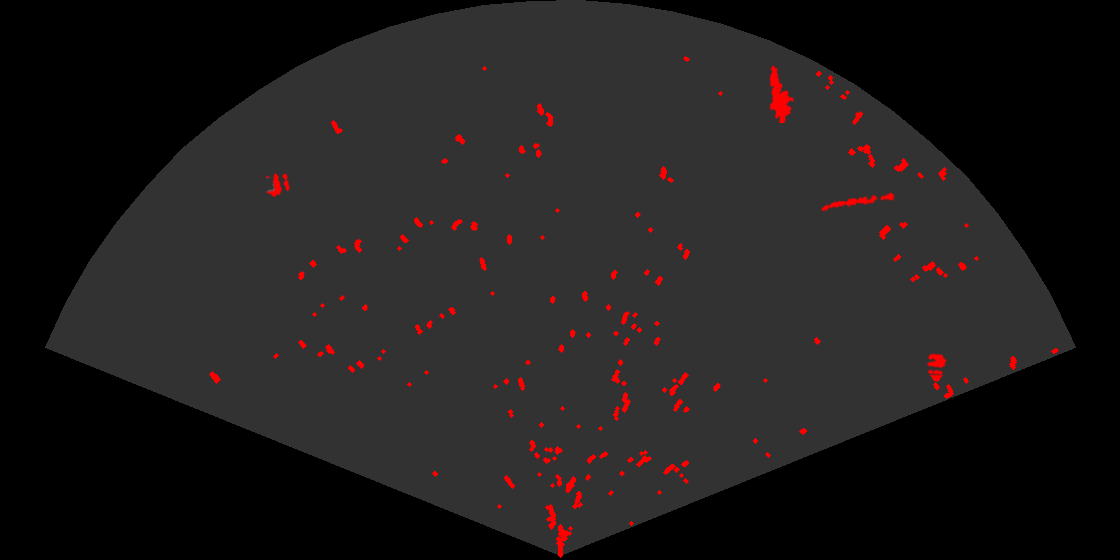ball: (264, 171, 291, 198), (925, 352, 948, 376)
chain: (819, 190, 896, 213)
frogman: (768, 63, 796, 123)
